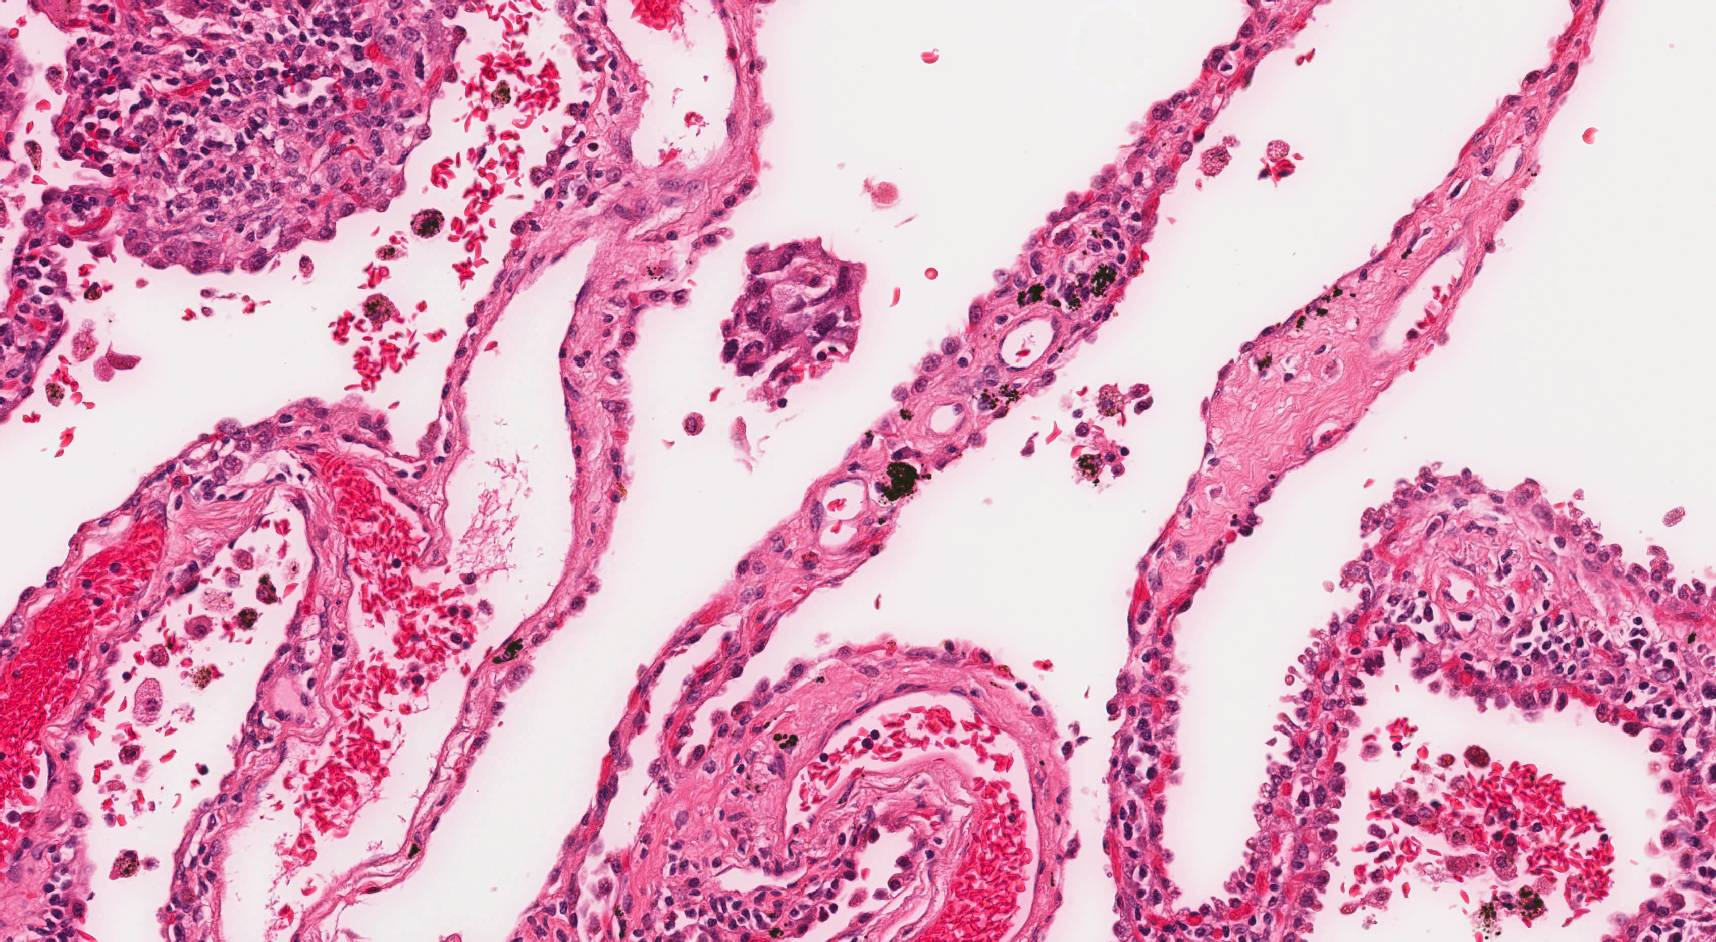stas: (718, 234, 866, 403)
